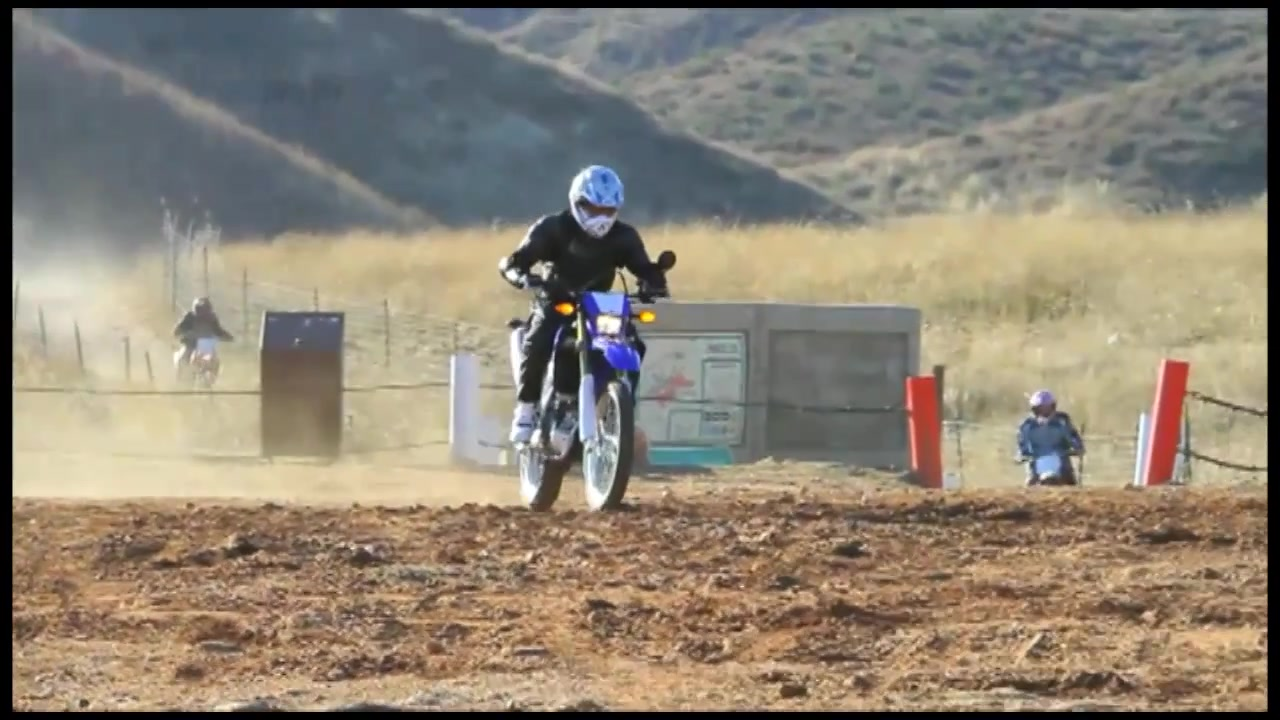motorbike: (510, 252, 676, 515)
